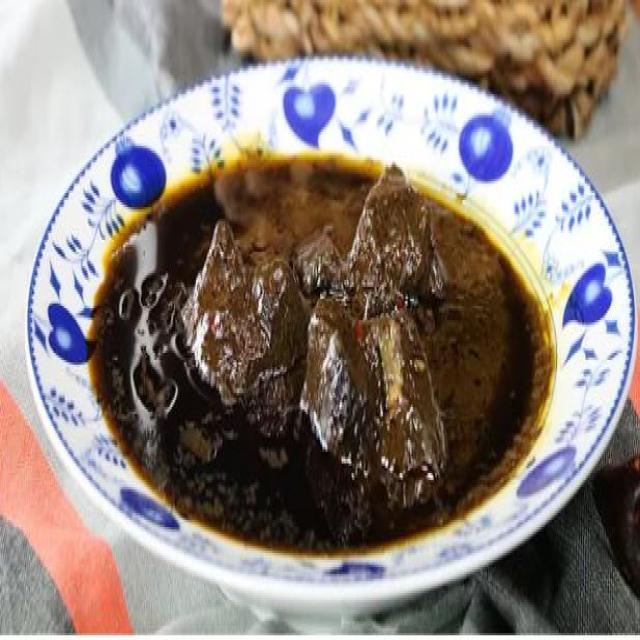Melloukhia: (46, 50, 621, 561)
